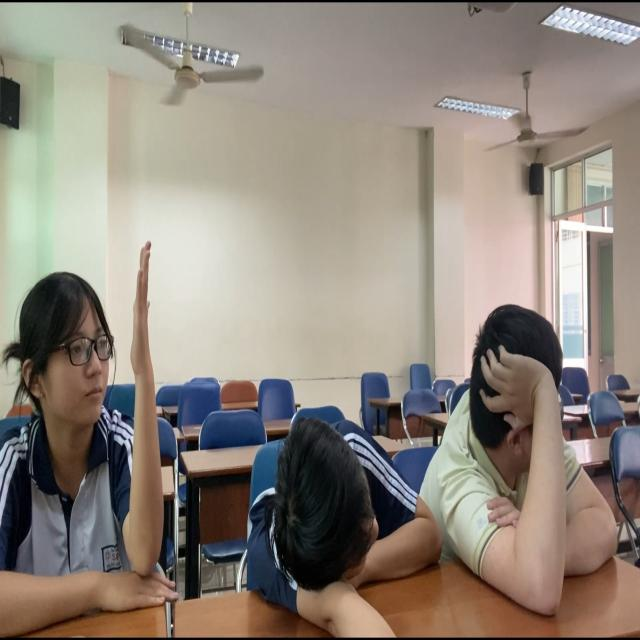raise_hand: (1, 223, 189, 640)
sleep: (240, 403, 444, 640)
